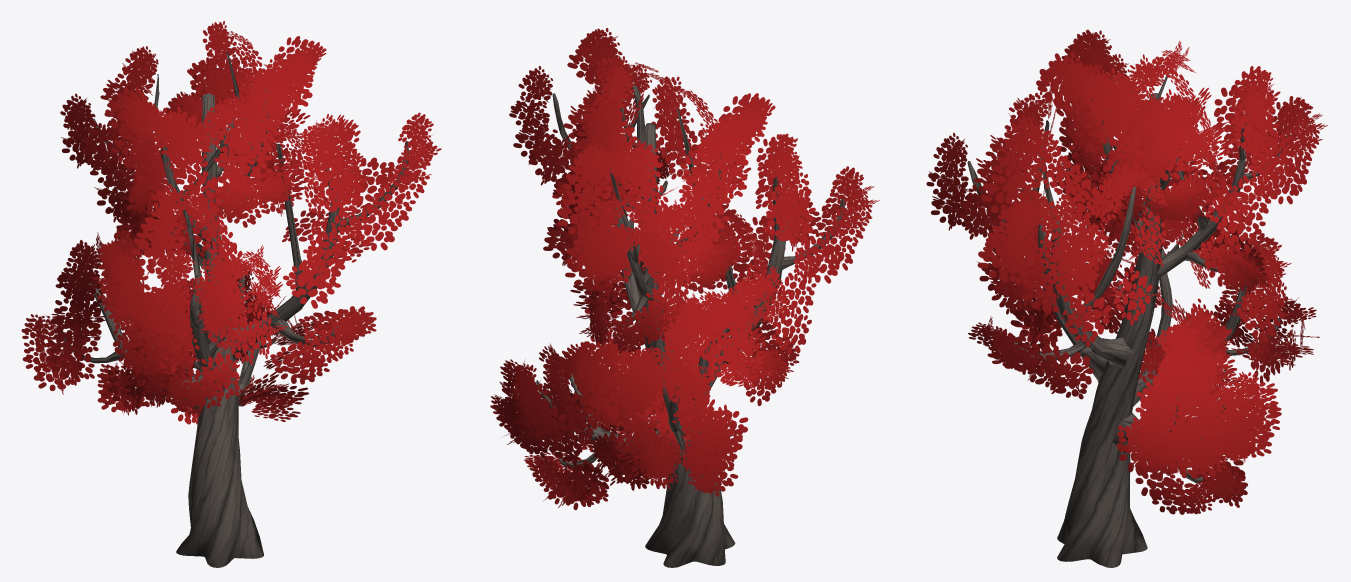
Rendered from twisted-tree-3.glb.
3 views of the same model, side by side, from view 1: azimuth 30°, elevation 25°; view 2: azimuth 150°, elevation 25°; view 3: azimuth 270°, elevation 25° (orthographic). The views are drawn at different scales.
Visible parts, largest first — view 1: TwistedTree_3; view 2: TwistedTree_3; view 3: TwistedTree_3.
Boxes of the visible parts, <box> form: TwistedTree_3: <box>21,21,441,567</box>; TwistedTree_3: <box>490,28,879,567</box>; TwistedTree_3: <box>926,29,1327,567</box>.
Size of the model in its own units: 11.36 by 16.07 by 11.51.
Materials: 2 (2 with a texture image).
